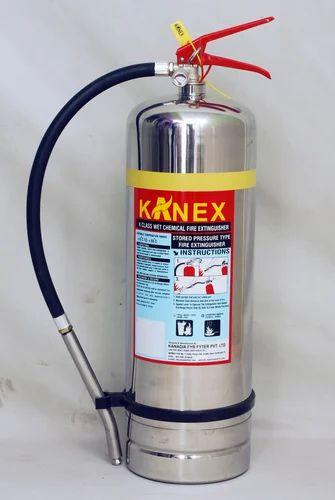Fire Extinguisher: (14, 10, 297, 489)
